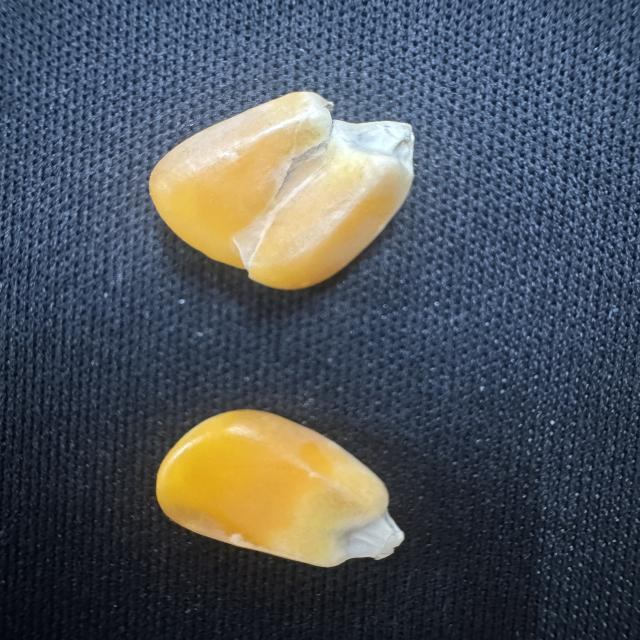Bad-Seed: (138, 86, 423, 311)
Good-Seed: (149, 402, 419, 601)
